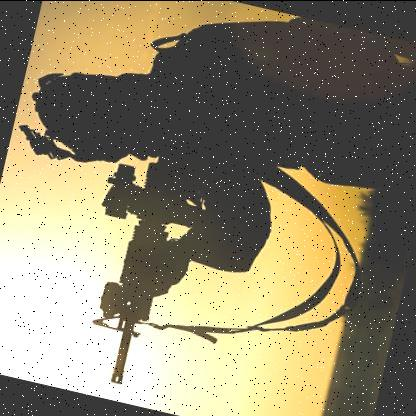rifle: (57, 139, 225, 395)
